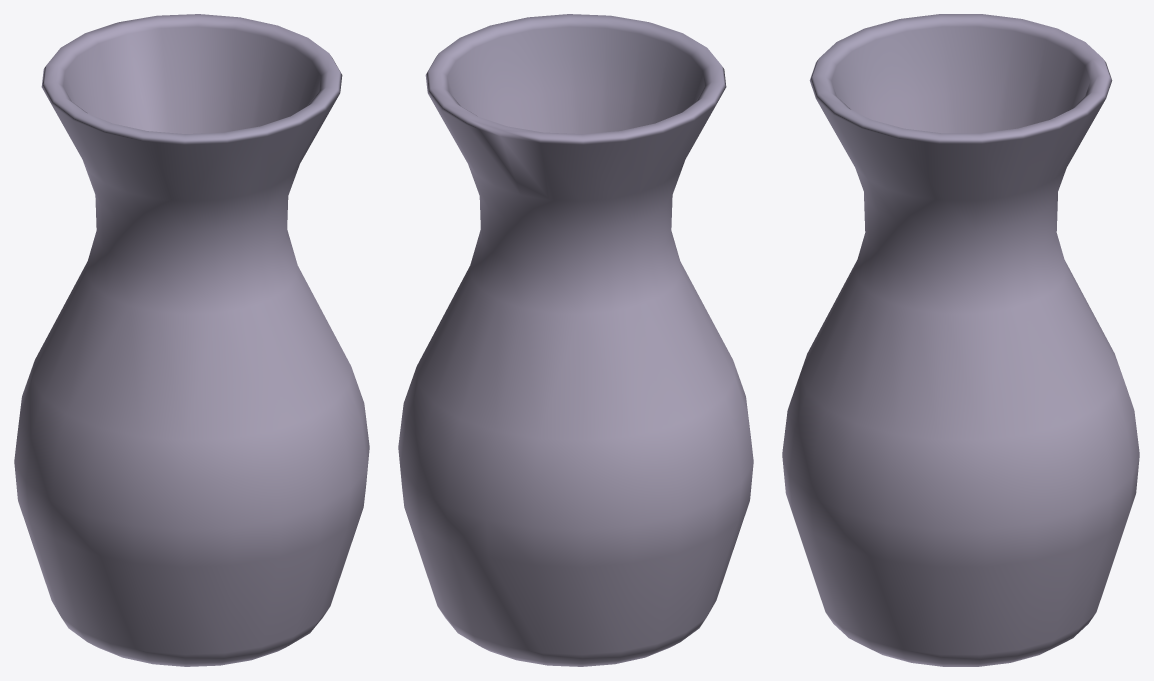
Rendered from Vaso.fbx.
3 renders of one model, left to right at view 1: azimuth 30°, elevation 25°; view 2: azimuth 150°, elevation 25°; view 3: azimuth 270°, elevation 25°, orthographic.
Parts seen in each view (by area): view 1: Circle.013; view 2: Circle.013; view 3: Circle.013.
Boxes of the visible parts, bbox=[...] form: Circle.013: bbox=[14, 14, 369, 666]; Circle.013: bbox=[398, 14, 753, 666]; Circle.013: bbox=[782, 14, 1139, 666].
Size of the model in its own units: 3.42 by 5.81 by 3.46.
